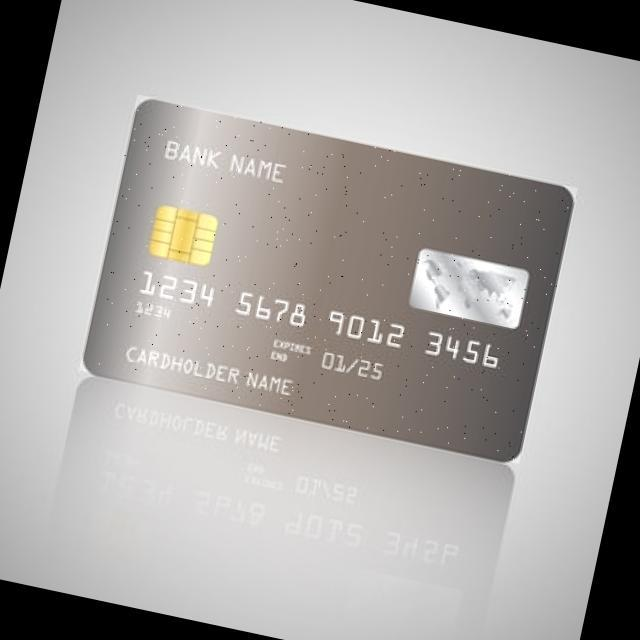payment_card: (81, 95, 577, 463)
